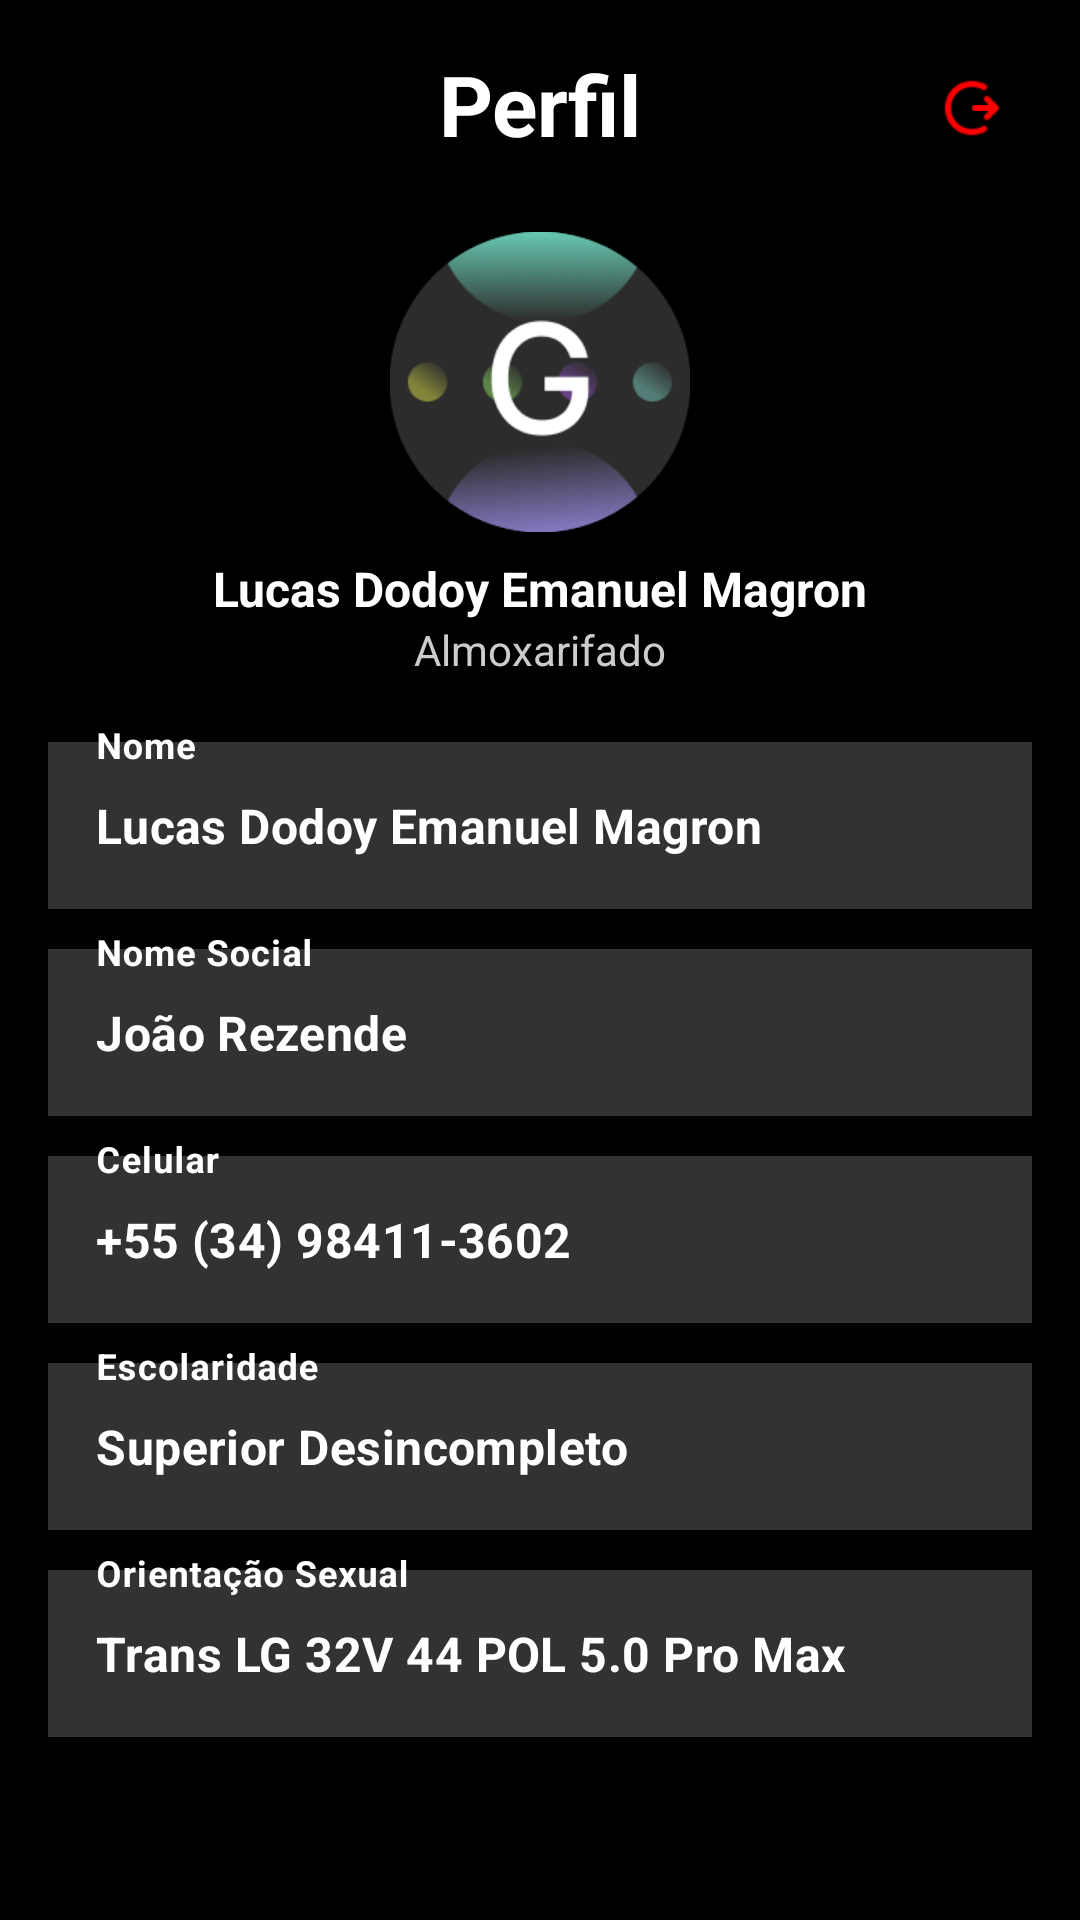

Locate icon controls on the screen. Image size 1080*1920, boxes as (x1, y1, x2, y2).
Profile Image: (390, 232, 690, 532)
